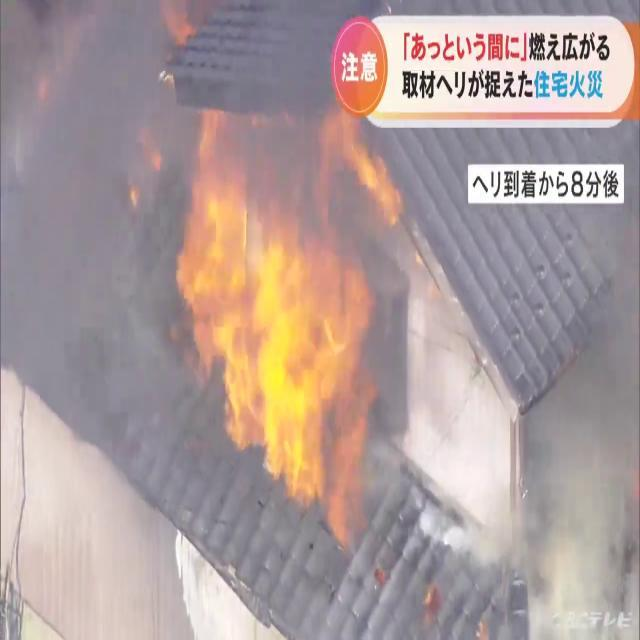Fire: (164, 67, 426, 509)
Smoke: (0, 9, 196, 431), (523, 300, 640, 640)
